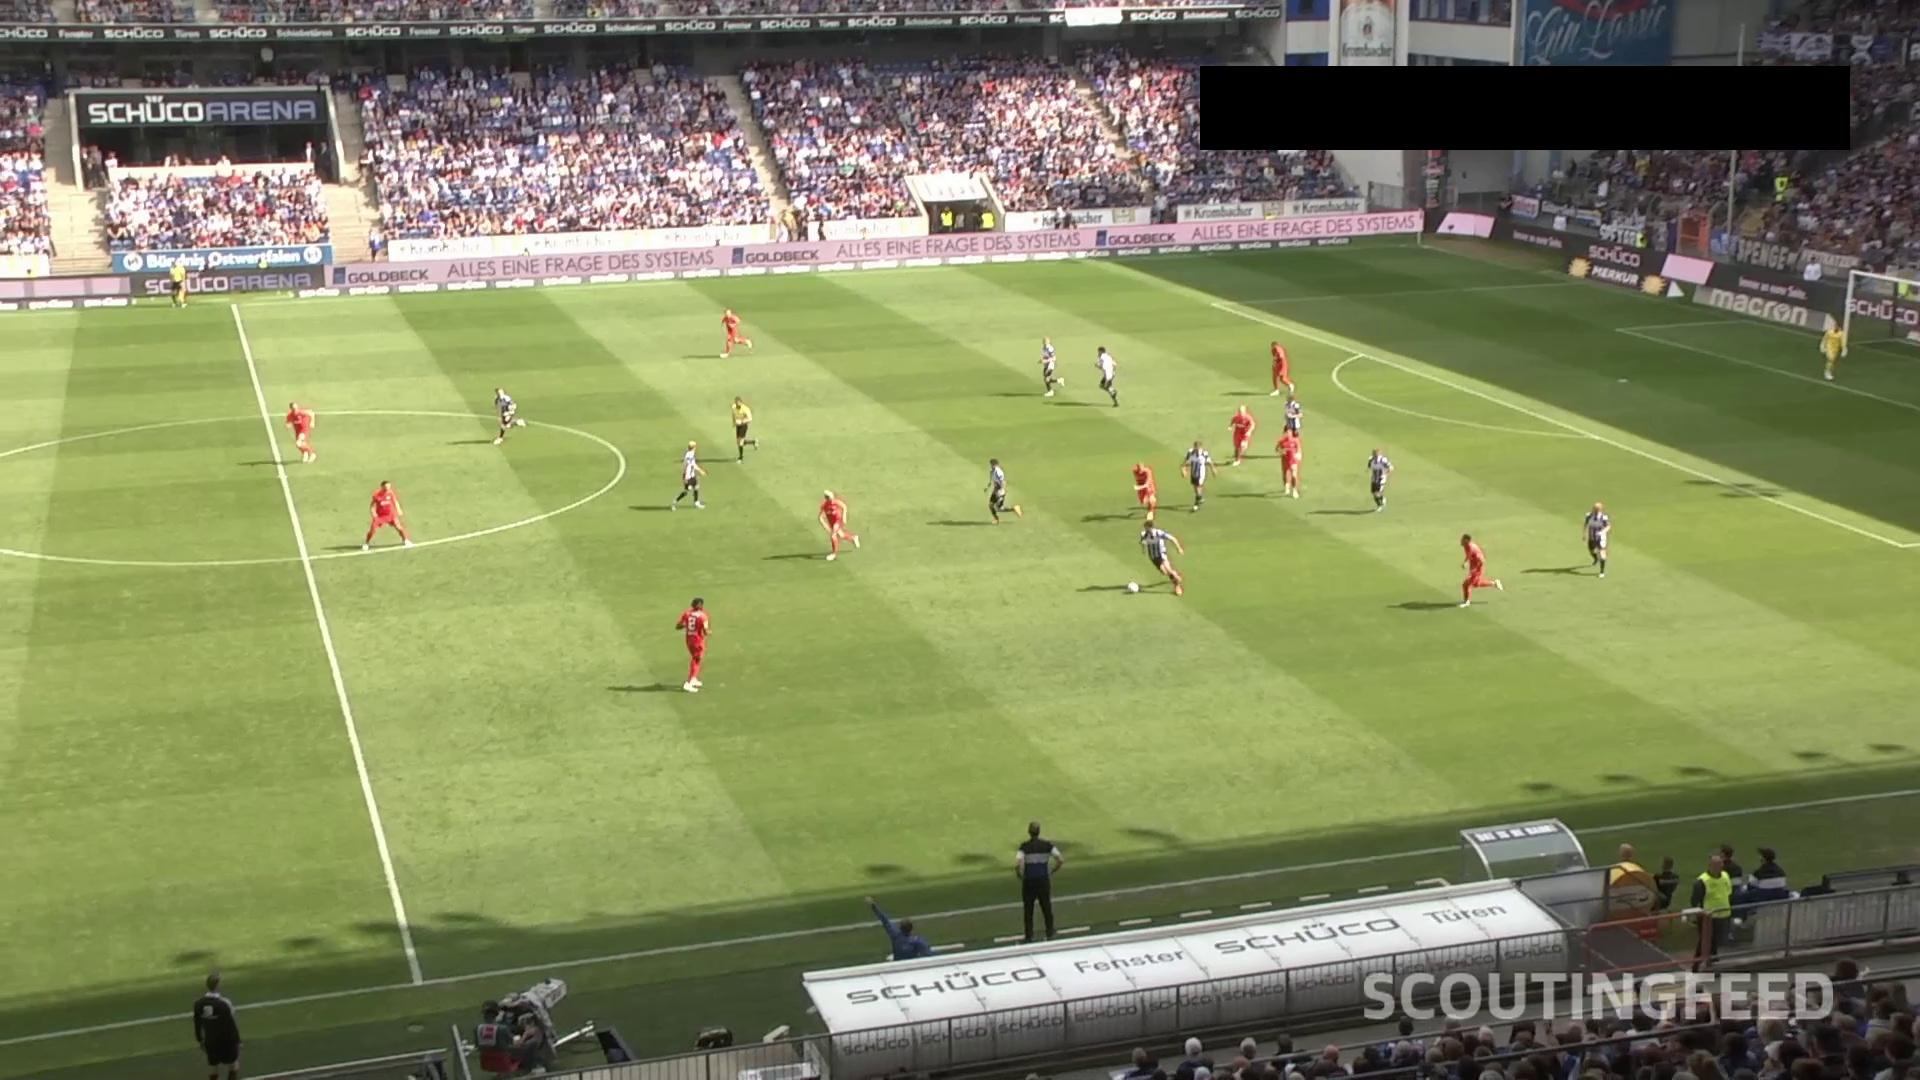Location-of-ball: (1117, 580, 1150, 601)
